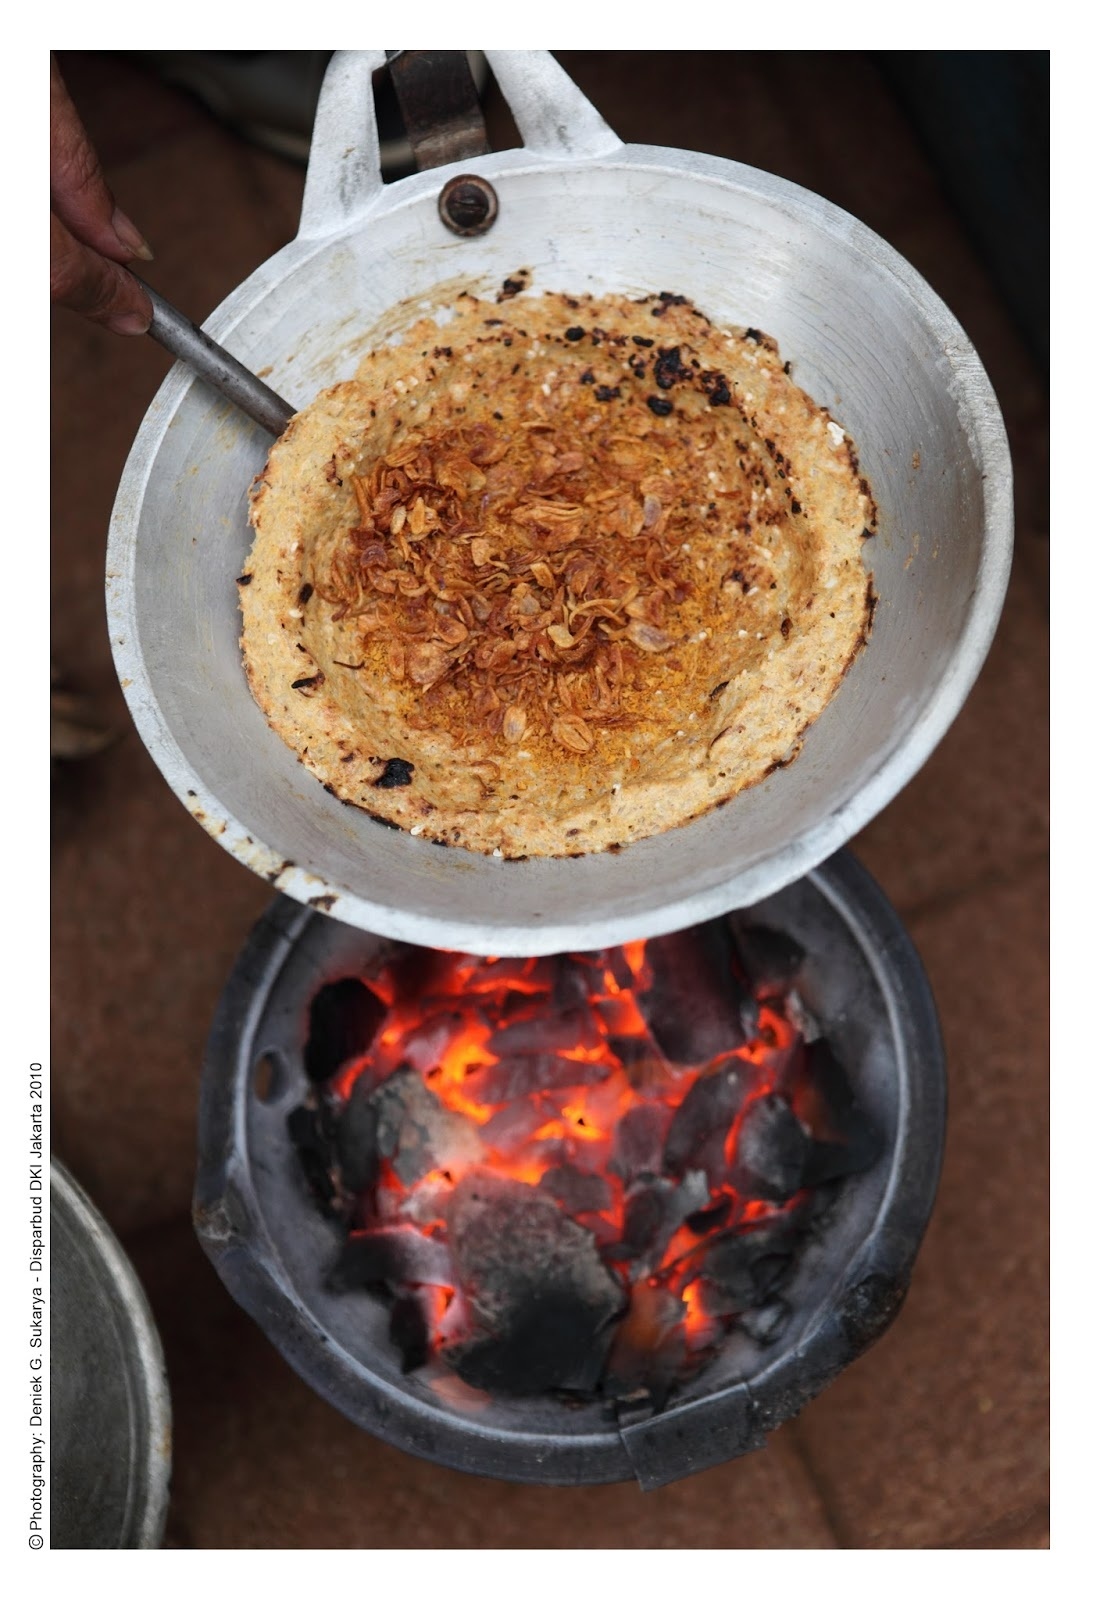kerak_telor: (239, 288, 879, 866)
